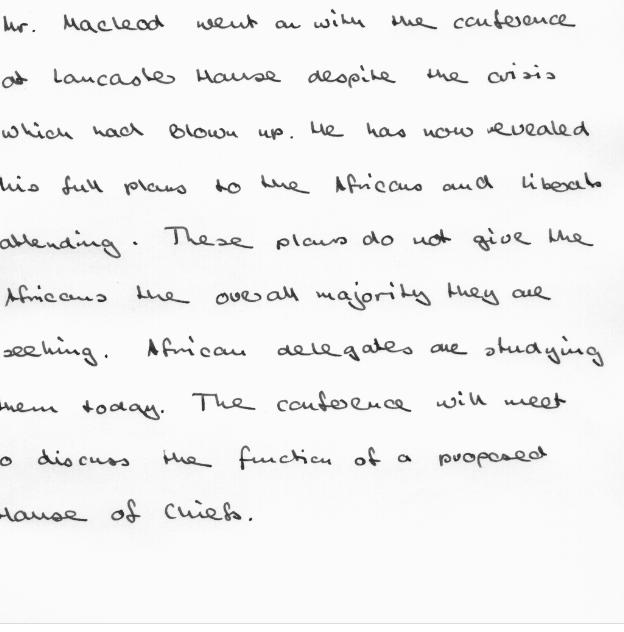text: (0, 330, 606, 372), (0, 221, 596, 260), (0, 113, 596, 148), (1, 279, 554, 316), (0, 1, 577, 36), (0, 388, 569, 423), (0, 167, 605, 199), (0, 442, 551, 474), (0, 61, 558, 88), (0, 495, 254, 527)
